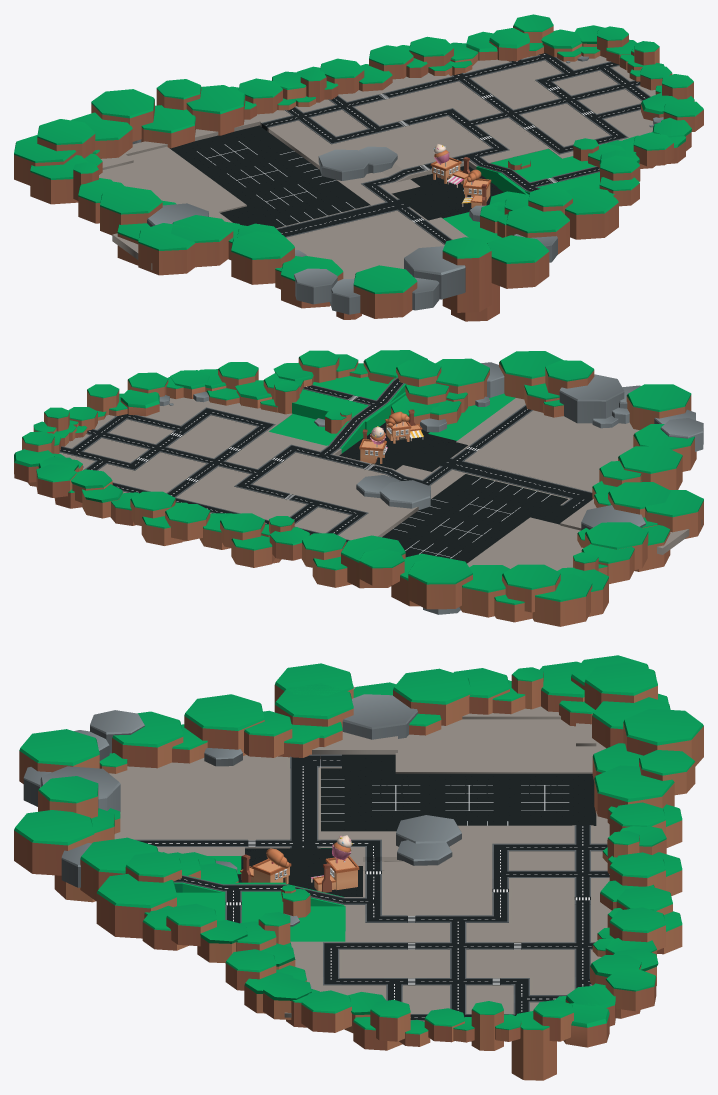
The model's file is MAPA 3.fbx.
3 views of the same model, one above another, from view 1: azimuth 30°, elevation 25°; view 2: azimuth 150°, elevation 25°; view 3: azimuth 270°, elevation 25° (orthographic). The views are drawn at different scales.
Parts seen in each view (by area): view 1: floor_dirt.011, floor_dirt.031, sueloo.085, sueloo.083, sueloo.082, sueloo.077, sueloo.105, sueloo.024, sueloo.094, sueloo.106, sueloo.110, sueloo.112 (+51 smaller); view 2: floor_dirt.011, floor_dirt.031, sueloo.112, sueloo.098, sueloo.001, sueloo.082, sueloo.077, sueloo.105, sueloo.083, sueloo.101, sueloo.095, floor_dirt.339 (+60 smaller); view 3: floor_dirt.011, floor_dirt.031, sueloo.083, sueloo.024, sueloo.112, sueloo.077, sueloo.110, floor_dirt.339, sueloo.082, sueloo.094, sueloo.088, sueloo.106 (+64 smaller).
Part boxes in pixels (<box>): floor_dirt.011: <box>287,211,444,278</box>; floor_dirt.031: <box>99,146,246,212</box>; sueloo.085: <box>442,237,491,312</box>; sueloo.083: <box>487,235,549,288</box>; sueloo.082: <box>353,265,417,318</box>; sueloo.077: <box>231,231,294,284</box>; sueloo.105: <box>138,223,195,275</box>; sueloo.024: <box>565,186,618,239</box>; sueloo.094: <box>186,85,245,135</box>; sueloo.106: <box>171,215,233,267</box>; sueloo.110: <box>100,186,162,235</box>; sueloo.112: <box>91,89,154,141</box>; floor_dirt.011: <box>465,410,639,491</box>; floor_dirt.031: <box>467,517,583,570</box>; sueloo.112: <box>408,556,472,609</box>; sueloo.098: <box>532,574,592,626</box>; sueloo.001: <box>559,374,624,423</box>; sueloo.082: <box>626,384,691,430</box>; sueloo.077: <box>618,446,682,489</box>; sueloo.105: <box>645,490,703,538</box>; sueloo.083: <box>499,351,563,399</box>; sueloo.101: <box>502,564,560,612</box>; sueloo.095: <box>459,565,509,617</box>; floor_dirt.339: <box>120,453,203,492</box>; floor_dirt.011: <box>109,755,287,840</box>; floor_dirt.031: <box>395,719,596,773</box>; sueloo.083: <box>14,810,94,875</box>; sueloo.024: <box>96,874,176,938</box>; sueloo.112: <box>623,708,703,766</box>; sueloo.077: <box>184,694,264,755</box>; sueloo.110: <box>393,668,471,725</box>; floor_dirt.339: <box>469,950,572,978</box>; sueloo.082: <box>19,729,99,783</box>; sueloo.094: <box>594,765,674,818</box>; sueloo.088: <box>112,711,183,768</box>; sueloo.106: <box>274,683,353,727</box>.
Bounding box in the file's own units: 36612 × 4441 × 29192.
12 materials, 12 textured.
